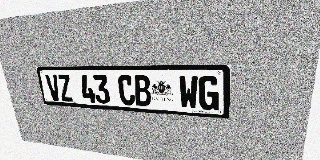3: (92, 75, 110, 104)
4: (79, 75, 96, 103)
B: (133, 75, 152, 107)
C: (117, 75, 135, 105)
G: (199, 75, 219, 111)
V: (45, 74, 62, 101)
W: (179, 75, 198, 109)
Z: (57, 74, 74, 102)
